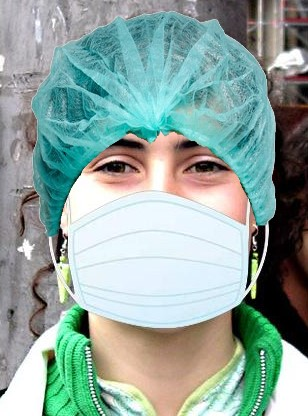with_mask_and_cap: (38, 15, 274, 328)
